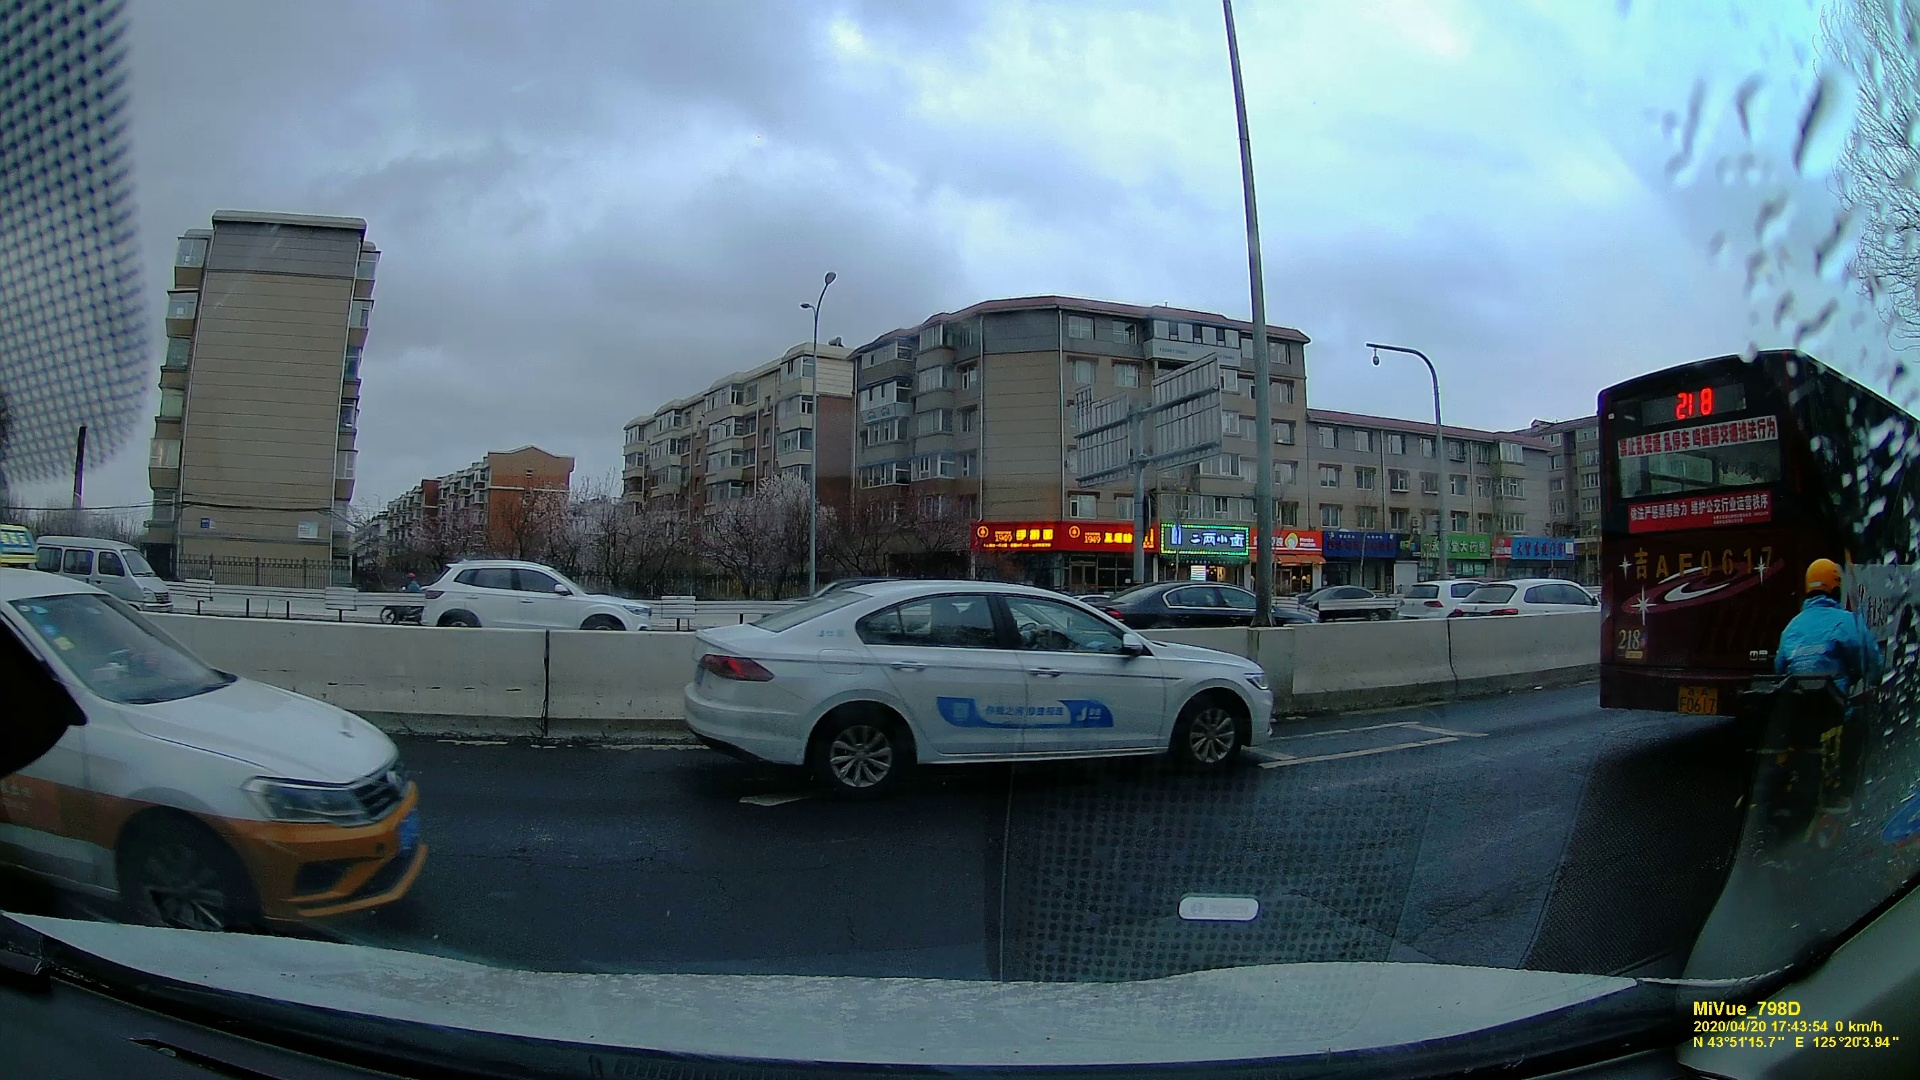bus: (1601, 352, 1917, 696)
minibus: (26, 536, 176, 604)
person: (1785, 548, 1866, 792)
vehicle: (1, 592, 413, 937), (689, 579, 1269, 804), (421, 556, 644, 639), (1455, 578, 1603, 624), (1392, 572, 1448, 622)
